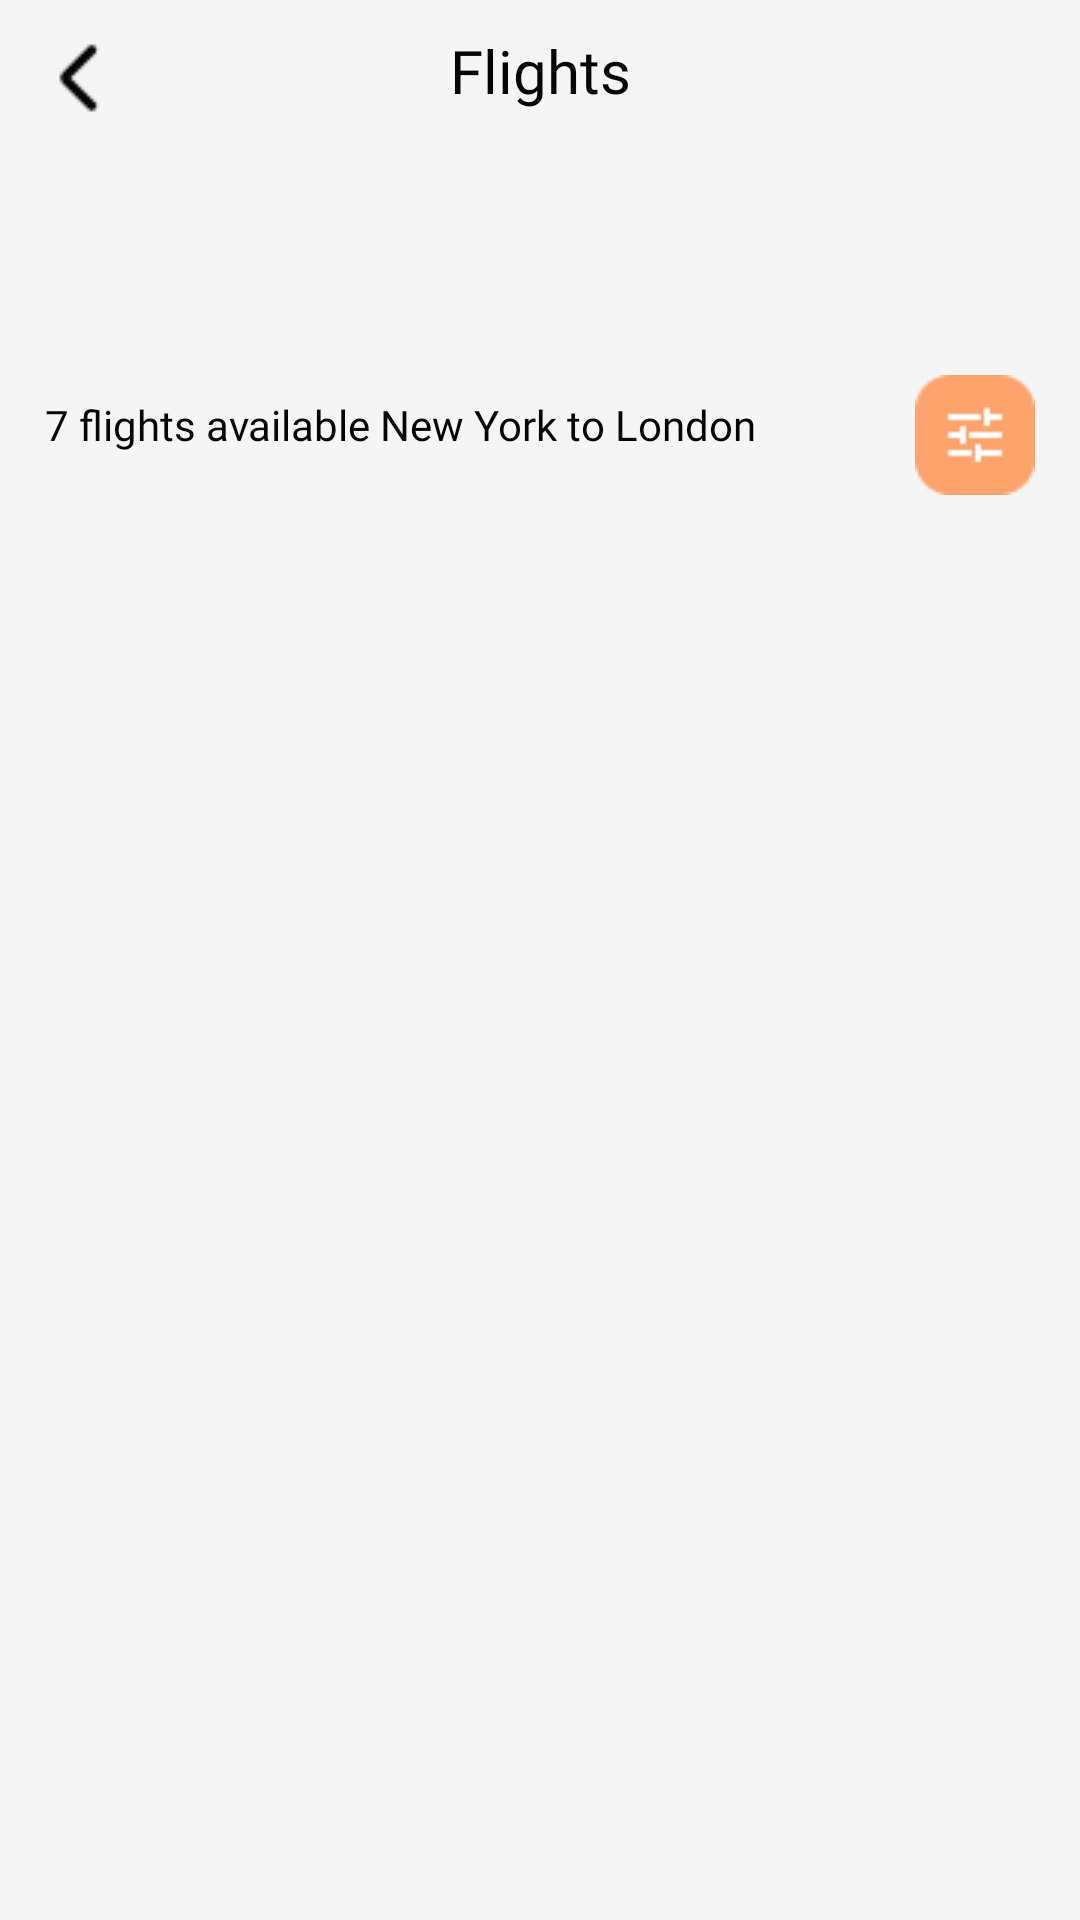

Icon click points for this 1080 x 1920 phone screenshot, format point (x, y):
back: point (78, 78)
filter: point (975, 435)
